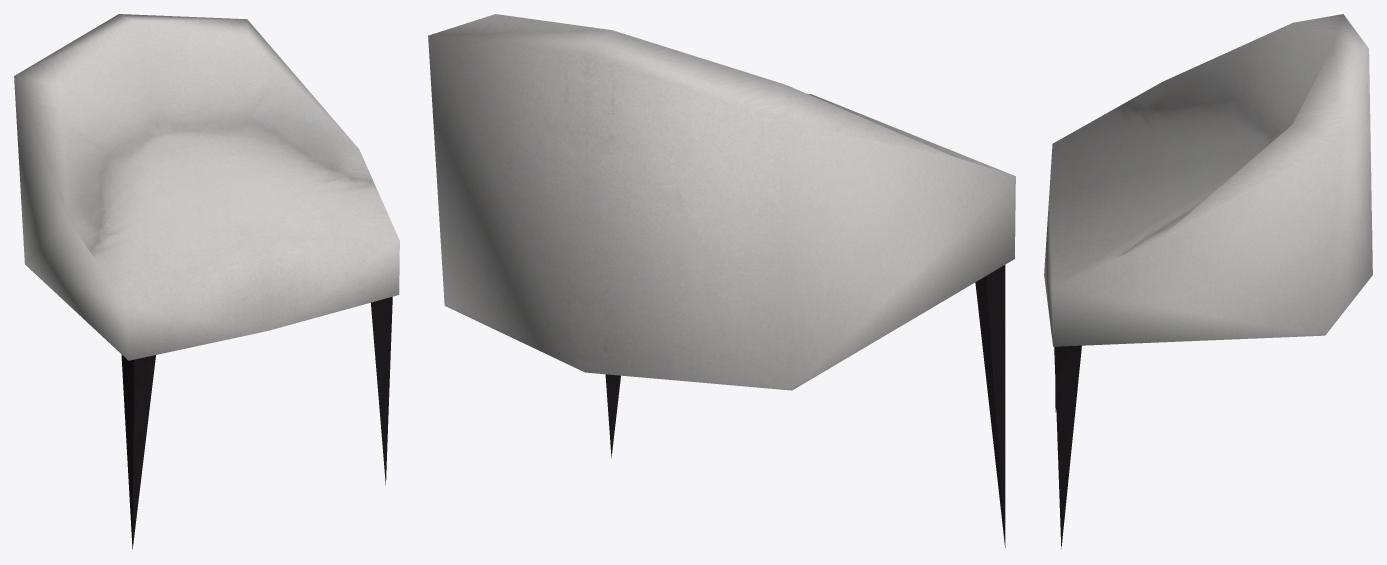
The model's file is furniture_chair5_lod2.glb.
The picture shows the model from 3 angles, left to right: view 1: azimuth 30°, elevation 25°; view 2: azimuth 150°, elevation 25°; view 3: azimuth 270°, elevation 25°; orthographic projection. The views are drawn at different scales.
Visible parts, largest first — view 1: surf0; view 2: surf0; view 3: surf0.
Part boxes in pixels (x1=…): surf0: x1=14, y1=14, x2=399, y2=549; surf0: x1=428, y1=14, x2=1015, y2=547; surf0: x1=1044, y1=14, x2=1372, y2=548.
Bounding box in the file's own units: 27.12 × 35.94 × 24.37.
